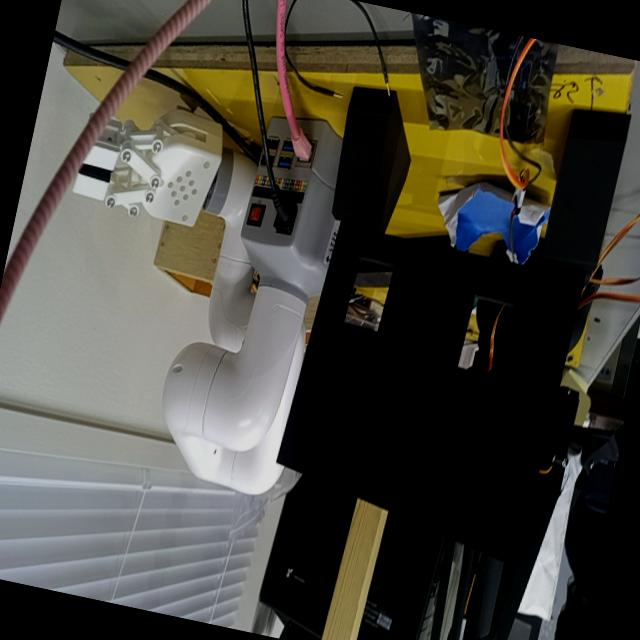Obstacle: (457, 294, 517, 383), (346, 258, 394, 331)
Wall: (274, 220, 584, 563)
